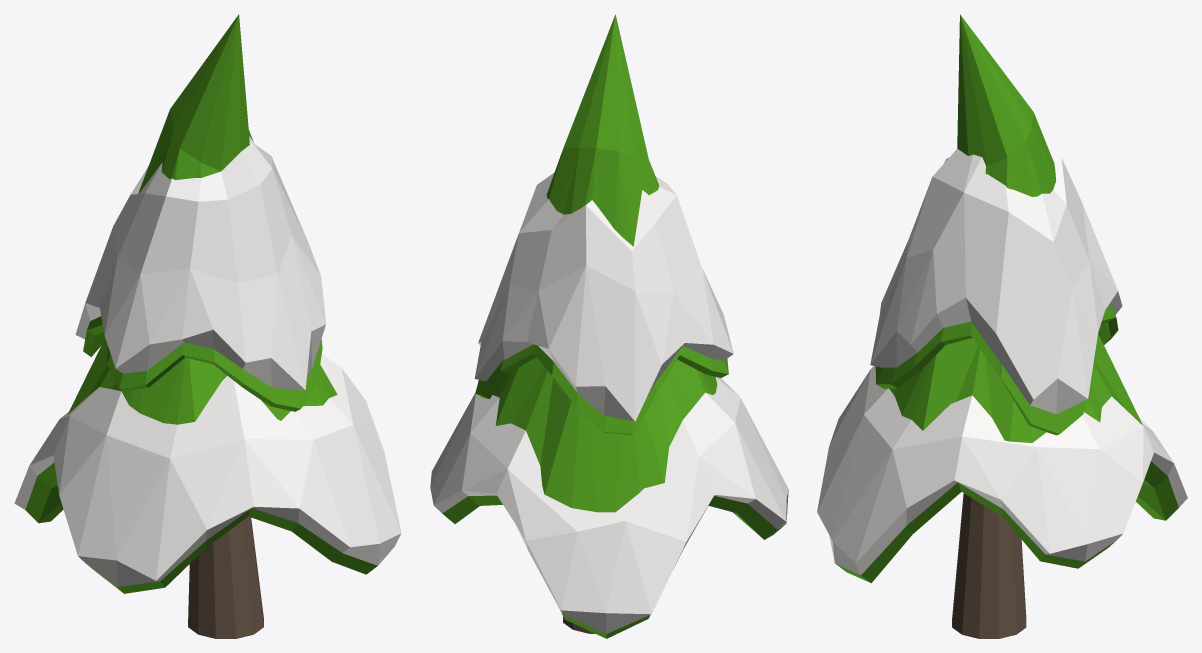
File: Isl_16_Tree_2.fbx
3 renders of one model, left to right at view 1: azimuth 30°, elevation 25°; view 2: azimuth 150°, elevation 25°; view 3: azimuth 270°, elevation 25°, orthographic. The views are drawn at different scales.
Visible parts, largest first — view 1: Isl_16_Tree_2; view 2: Isl_16_Tree_2; view 3: Isl_16_Tree_2.
Boxes of the visible parts, box(x1,y1,x2,y2) form: Isl_16_Tree_2: box(14, 14, 401, 638); Isl_16_Tree_2: box(430, 14, 788, 638); Isl_16_Tree_2: box(817, 14, 1187, 638).
Size of the model in its own units: 182 by 189 by 341.
1 material, 1 textured.
